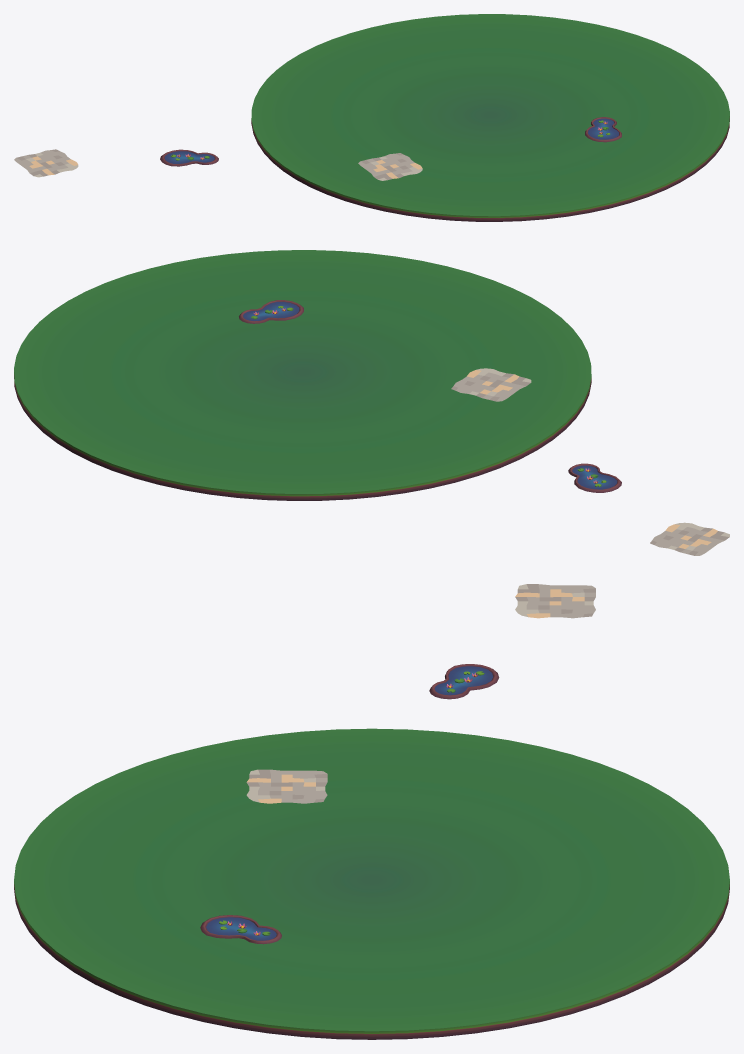
The model's file is Ground.obj.
3 views of the same model, one above another, from view 1: azimuth 30°, elevation 25°; view 2: azimuth 150°, elevation 25°; view 3: azimuth 270°, elevation 25° (orthographic). The views are drawn at different scales.
Parts seen in each view (by area): view 1: {static}World_Cylinder.045, {static}Plane.001_Plane.057, {static}Plane.004_Plane.014, {static}Pond_Cylinder.049, {static}Pond.001_Cylinder.109; view 2: {static}World_Cylinder.045, {static}Plane.001_Plane.057, {static}Plane.004_Plane.014, {static}Pond_Cylinder.049, {static}Pond.001_Cylinder.109; view 3: {static}World_Cylinder.045, {static}Plane.001_Plane.057, {static}Plane.004_Plane.014, {static}Pond_Cylinder.049, {static}Pond.001_Cylinder.109.
Boxes of the visible parts, x1,y1,x2,y2 form: {static}World_Cylinder.045: (251, 14, 729, 221); {static}Plane.001_Plane.057: (358, 153, 422, 180); {static}Plane.004_Plane.014: (14, 149, 78, 177); {static}Pond_Cylinder.049: (160, 149, 218, 166); {static}Pond.001_Cylinder.109: (585, 117, 621, 142); {static}World_Cylinder.045: (14, 250, 591, 500); {static}Plane.001_Plane.057: (451, 368, 531, 401); {static}Plane.004_Plane.014: (650, 522, 729, 555); {static}Pond_Cylinder.049: (568, 463, 621, 492); {static}Pond.001_Cylinder.109: (239, 300, 303, 323); {static}World_Cylinder.045: (14, 728, 729, 1039); {static}Plane.001_Plane.057: (246, 769, 327, 803); {static}Plane.004_Plane.014: (515, 584, 595, 618); {static}Pond_Cylinder.049: (429, 664, 499, 699); {static}Pond.001_Cylinder.109: (200, 915, 281, 944).
Bounding box in the file's own units: 5574 × 72.29 × 3772.
